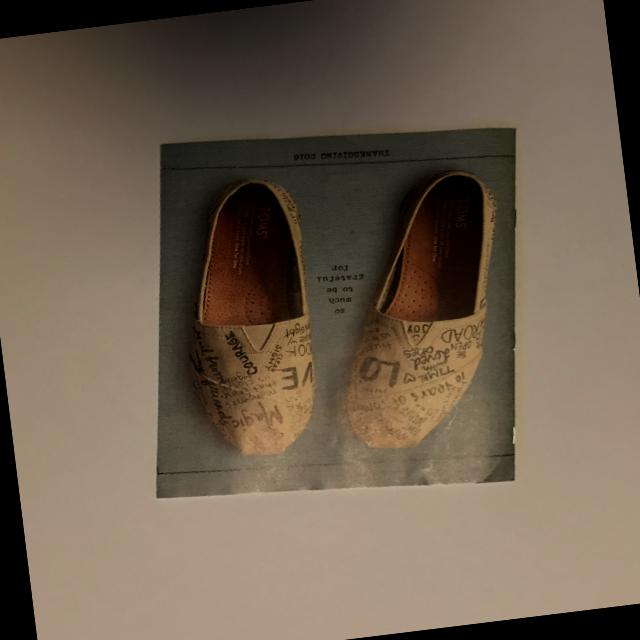Paper: (105, 100, 560, 524)
